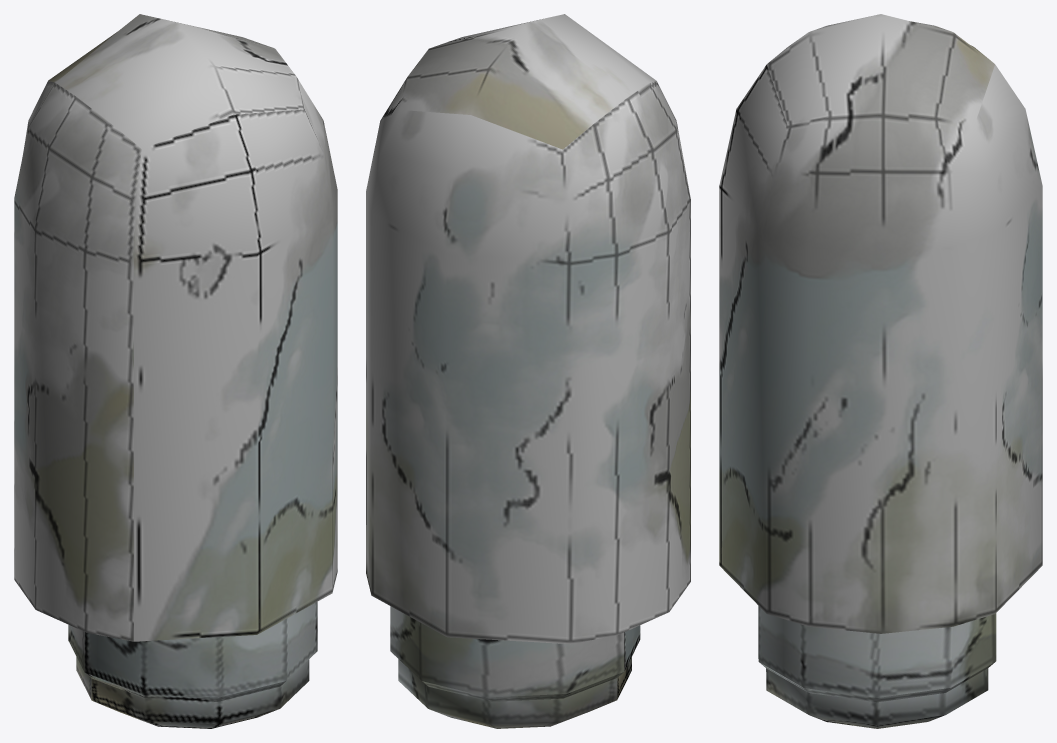
Rendered from Jetpack_lado.FBX.
The picture shows the model from 3 angles, left to right: view 1: azimuth 30°, elevation 25°; view 2: azimuth 150°, elevation 25°; view 3: azimuth 270°, elevation 25°; orthographic projection.
Parts seen in each view (by area): view 1: Object001; view 2: Object001; view 3: Object001.
Boxes of the visible parts, x1,y1,x2,y2 form: Object001: [14, 14, 337, 728]; Object001: [366, 14, 690, 728]; Object001: [719, 14, 1042, 728].
Size of the model in its own units: 62.86 by 144 by 62.86.
